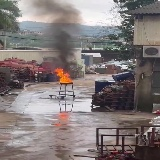fire: (54, 68, 72, 83)
